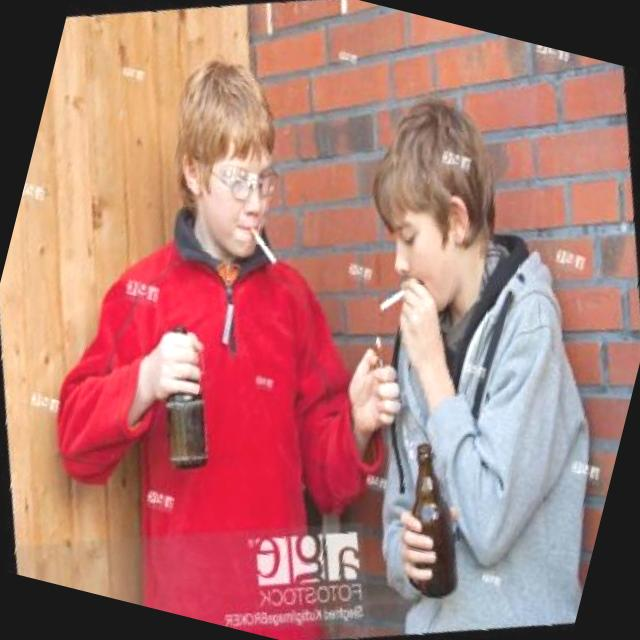smoke: (364, 274, 454, 362), (236, 216, 288, 278)
